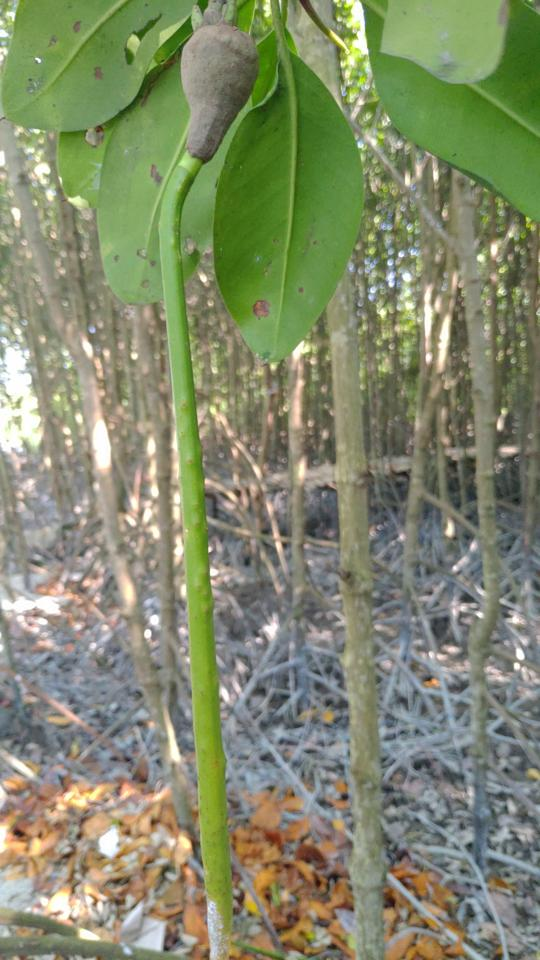setengah matang: (144, 1, 278, 956)
